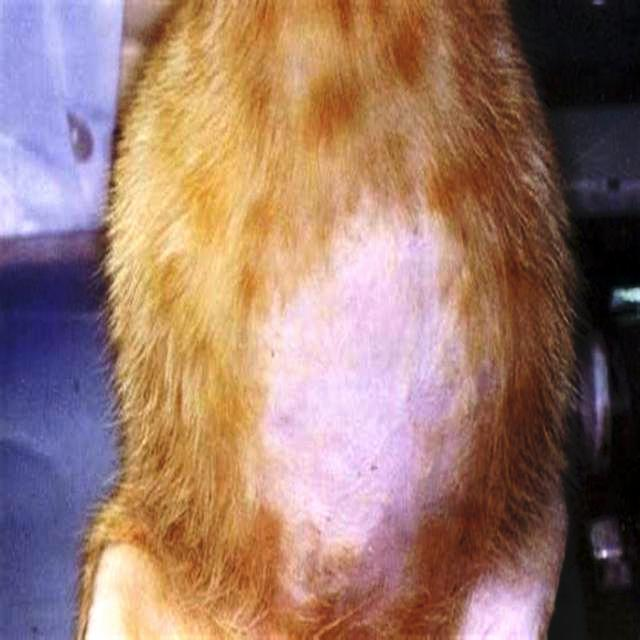hairloss: (260, 232, 449, 547)
